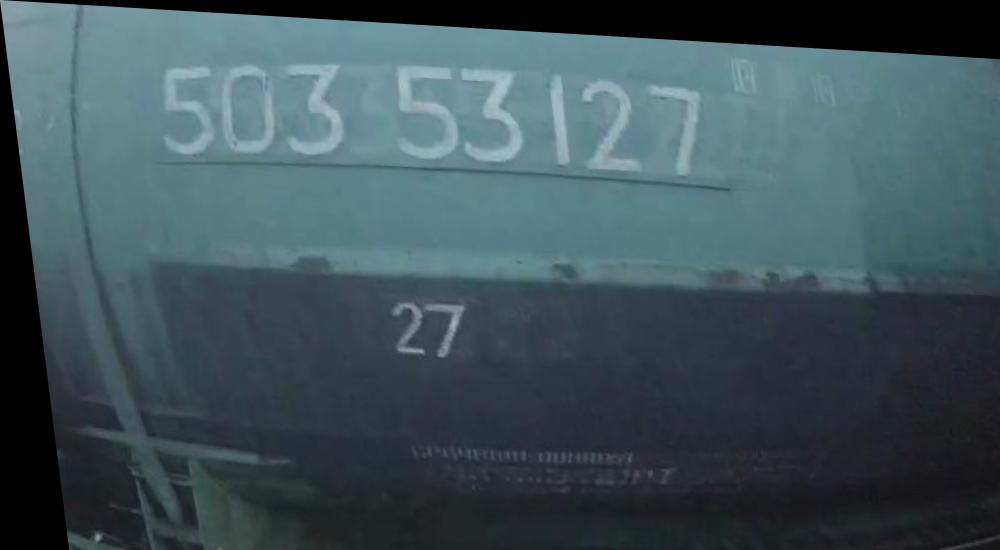Wagon-number: (144, 45, 722, 179)
